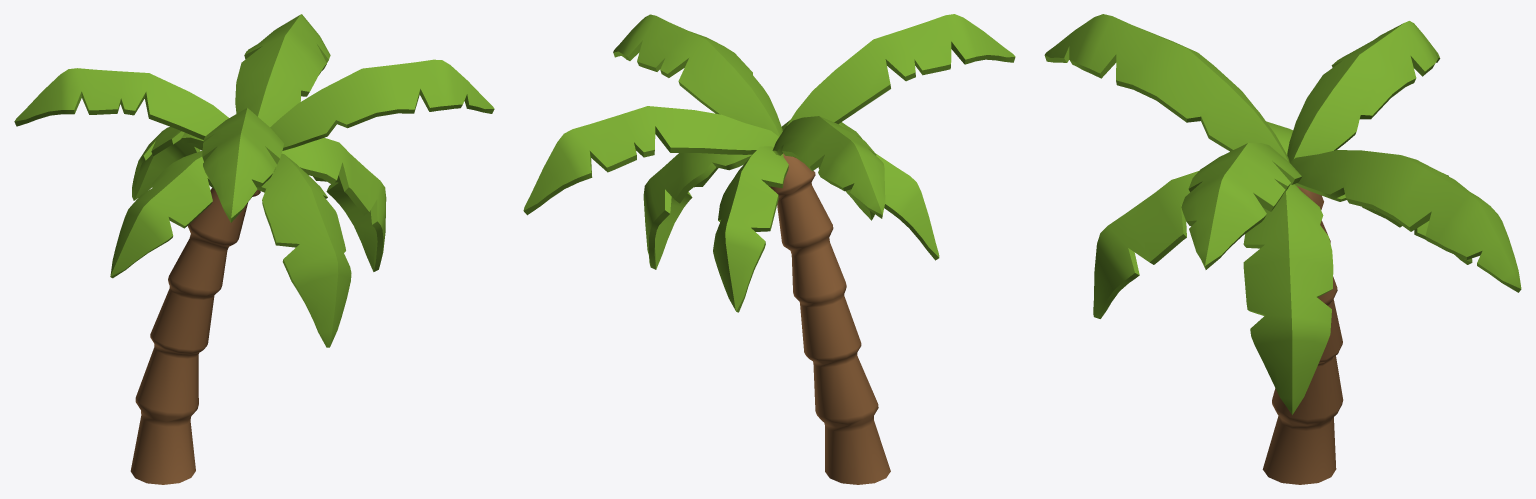
The model's file is palm-tree-quaternius-lod0.glb.
3 renders of one model, left to right at view 1: azimuth 30°, elevation 25°; view 2: azimuth 150°, elevation 25°; view 3: azimuth 270°, elevation 25°, orthographic. The views are drawn at different scales.
Parts seen in each view (by area): view 1: Environment_PalmTree_2; view 2: Environment_PalmTree_2; view 3: Environment_PalmTree_2.
Part boxes in pixels (<box>): Environment_PalmTree_2: <box>14,14,494,484</box>; Environment_PalmTree_2: <box>523,14,1015,484</box>; Environment_PalmTree_2: <box>1044,14,1521,484</box>.
Size of the model in its own units: 2.64 by 2.69 by 2.58.
Materials: 1 (1 with a texture image).
